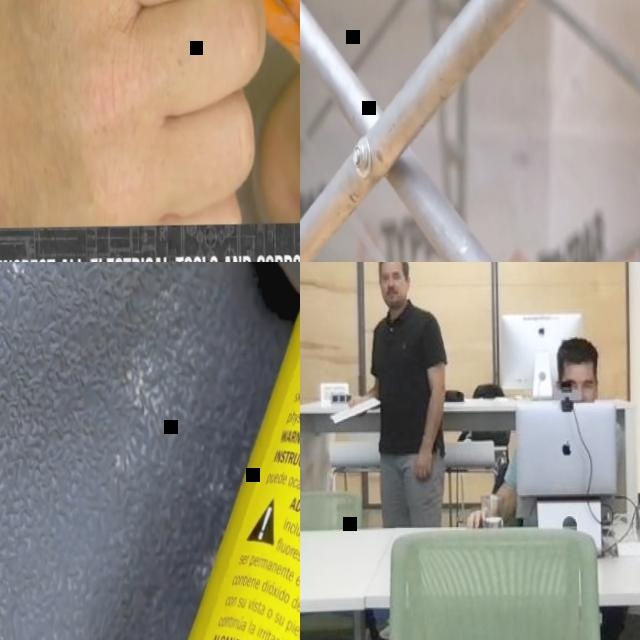NO-Hardhat: (554, 335, 599, 375), (376, 262, 407, 273)
NO-Mask: (381, 284, 407, 308)
NO-Safety Vest: (370, 307, 447, 459)
Person: (0, 0, 300, 231), (461, 334, 603, 528), (347, 262, 449, 525)
